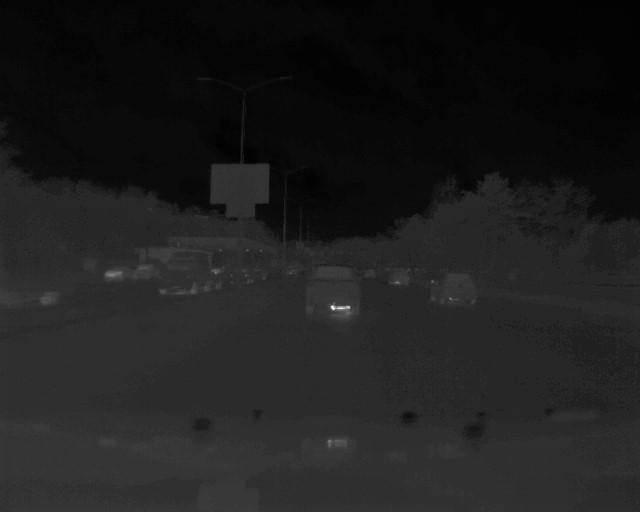car: (2, 256, 73, 308), (303, 262, 362, 321), (158, 257, 212, 296), (428, 268, 477, 307), (101, 262, 142, 283), (385, 264, 412, 288)
